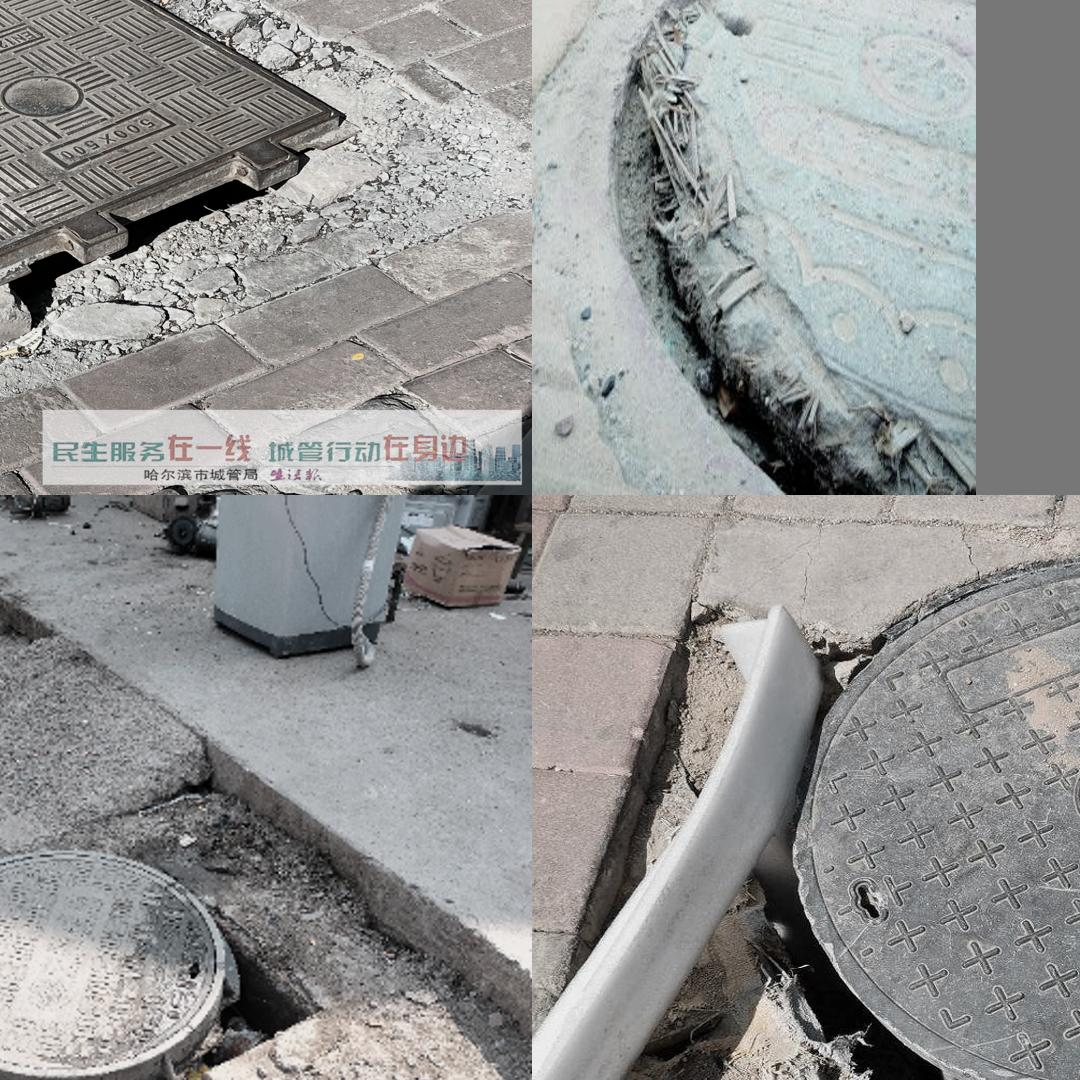circle: (607, 556, 1080, 1080), (557, 0, 968, 476), (0, 0, 476, 375), (0, 831, 289, 1080)
